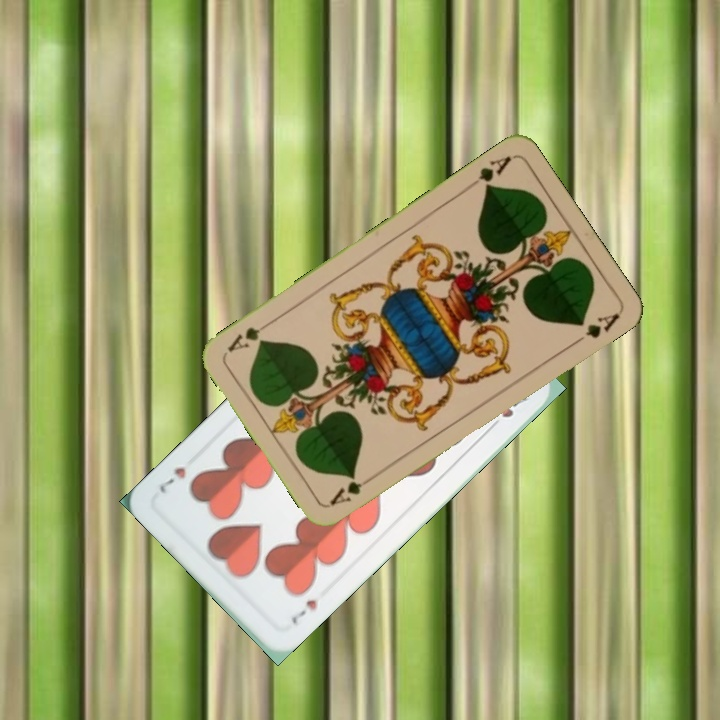GA: (462, 151, 514, 194), (326, 472, 379, 509)
H7: (287, 595, 320, 627)
